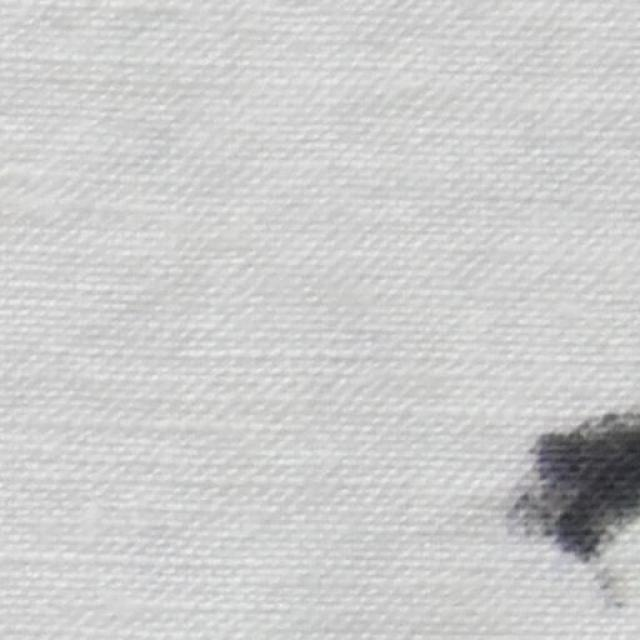Stain: (501, 407, 640, 612)
